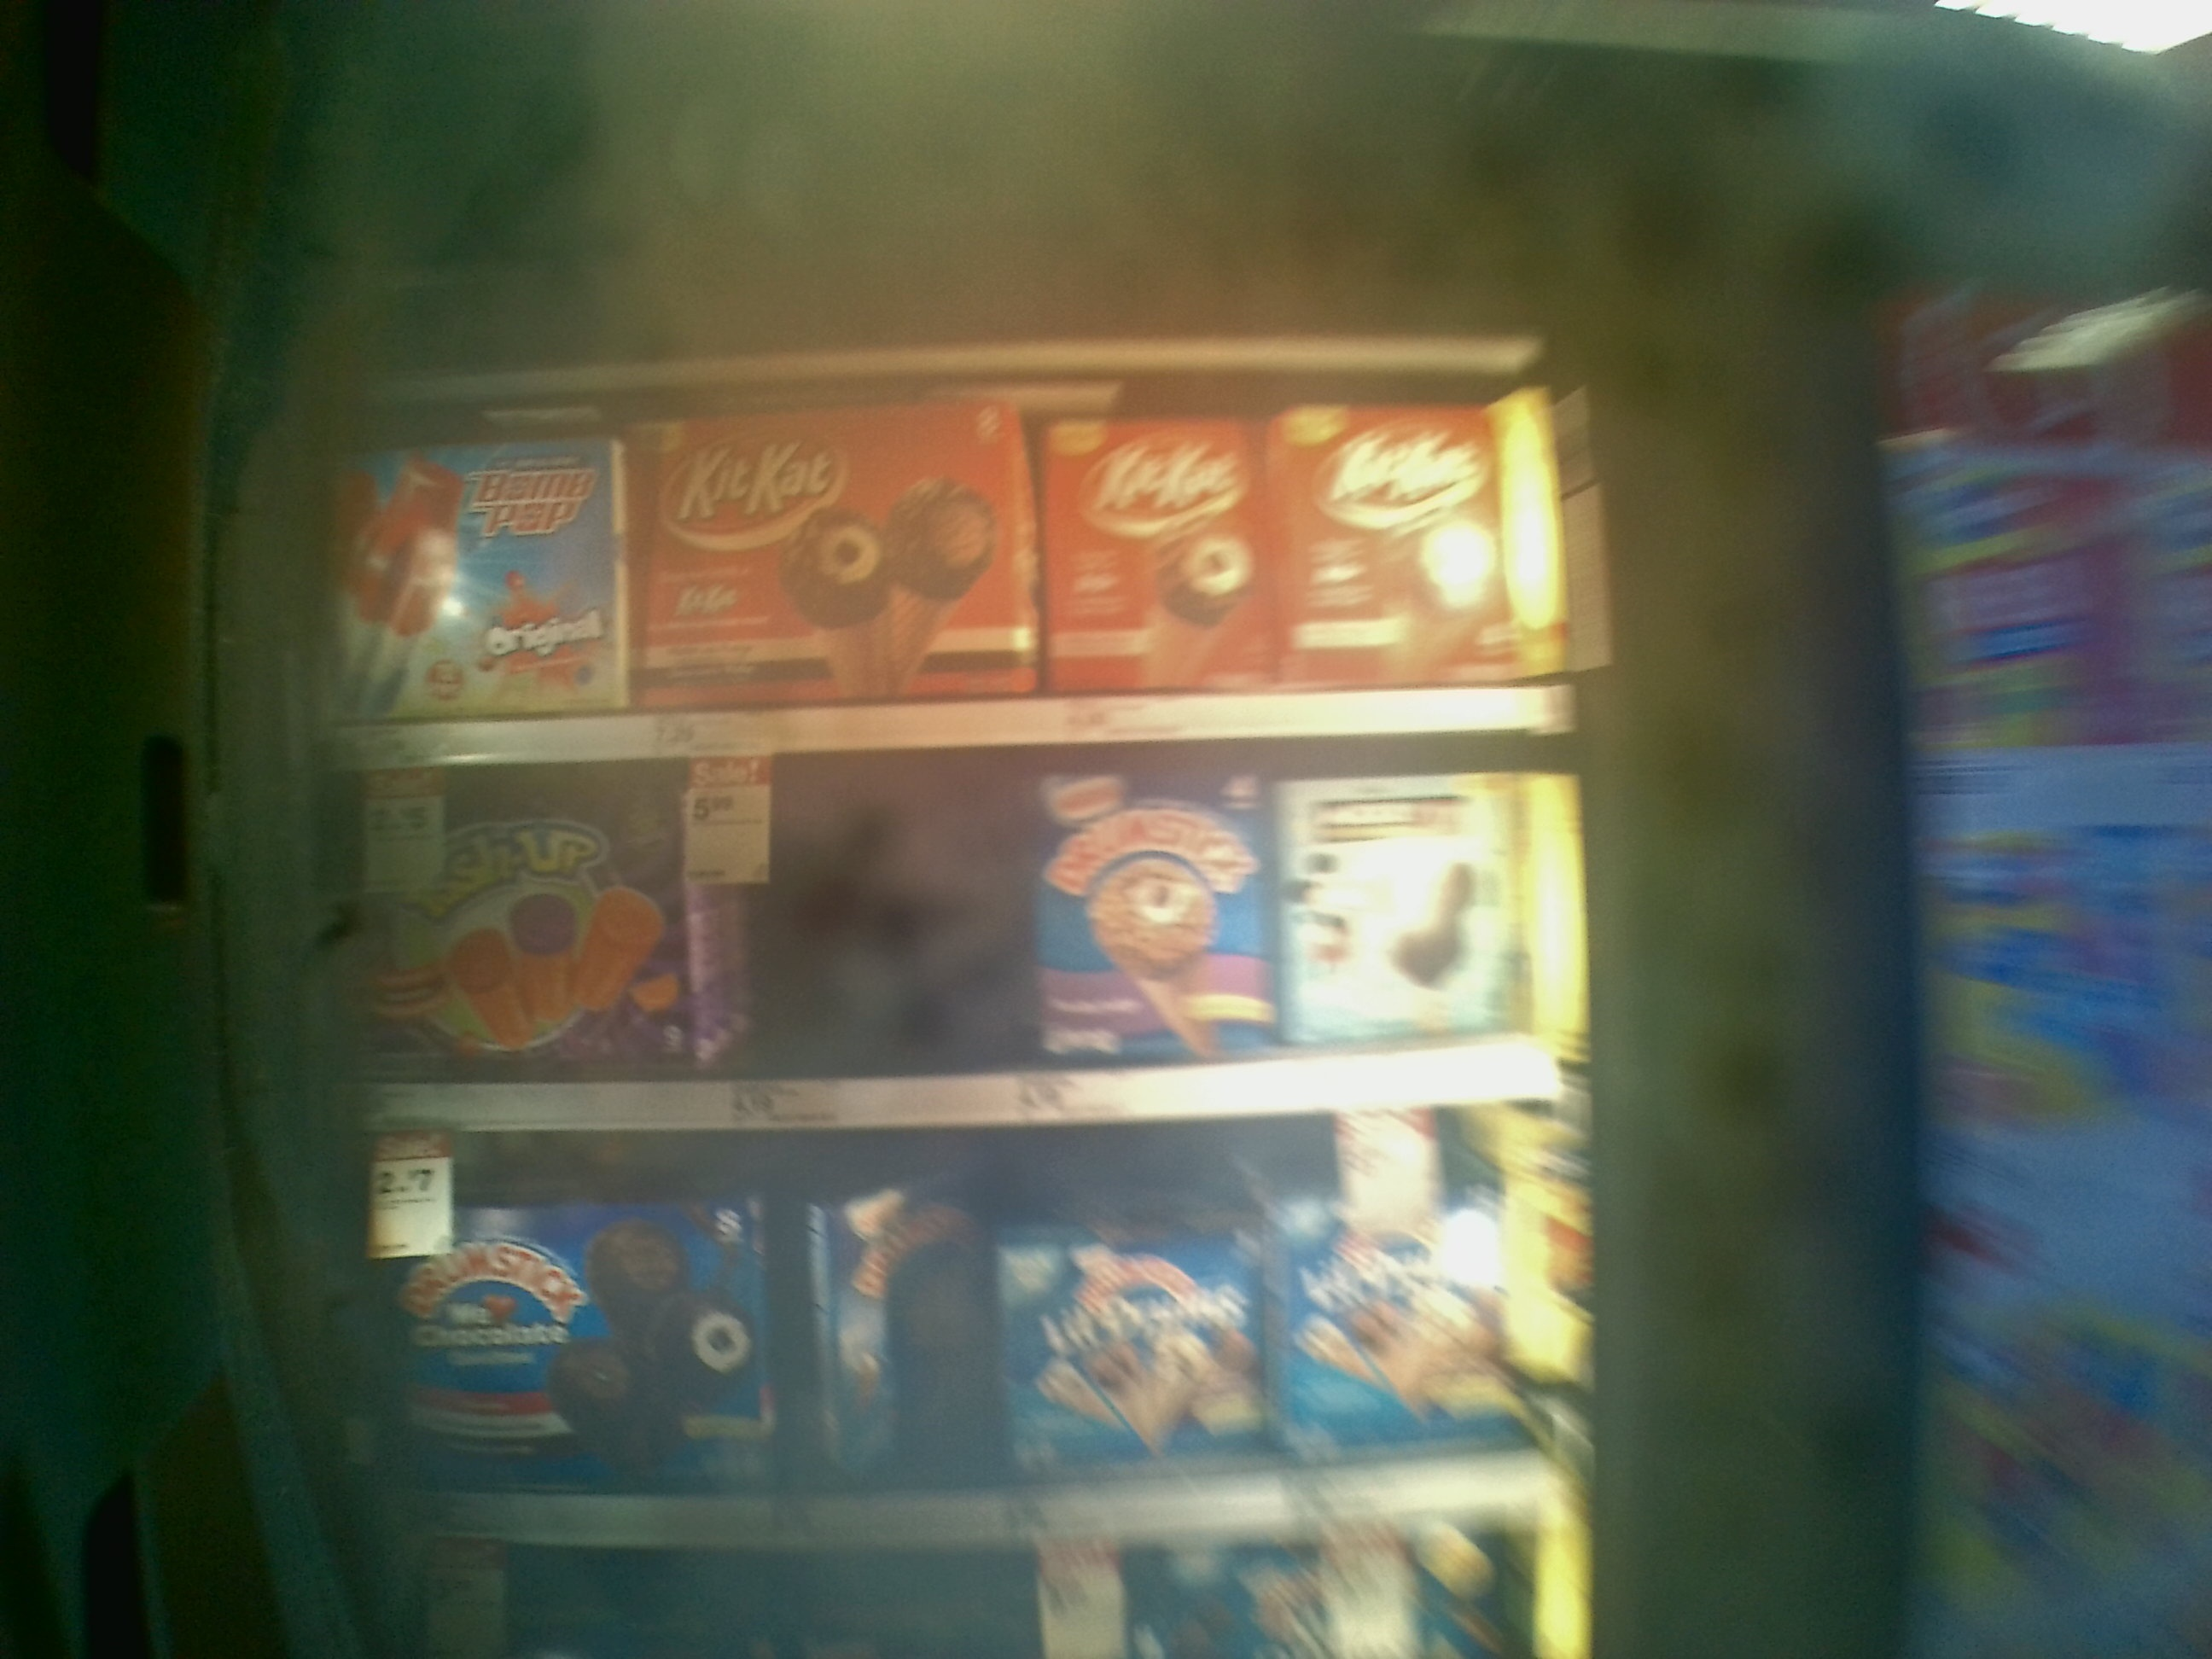shelf: (315, 727, 1583, 1129), (303, 401, 1566, 762)
